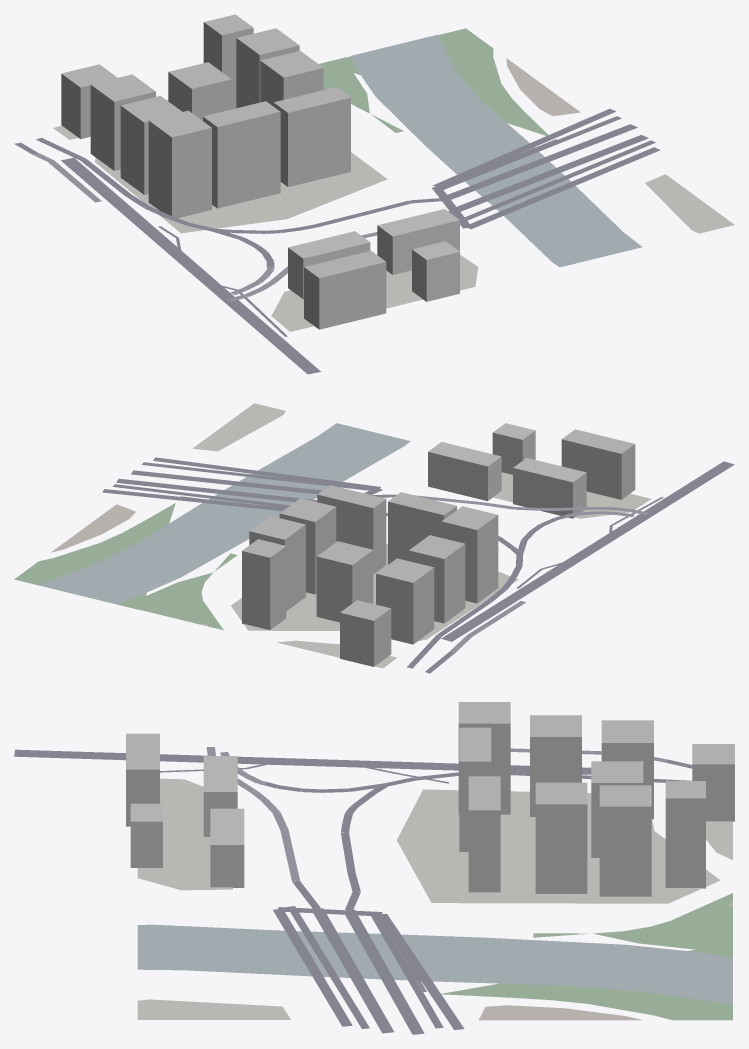
The model's file is 122_87_mid.glb.
3 renders of one model, top to bottom at view 1: azimuth 30°, elevation 25°; view 2: azimuth 150°, elevation 25°; view 3: azimuth 270°, elevation 25°, orthographic. The views are drawn at different scales.
Bounding box in the file's own units: 547 × 85.65 × 606.
